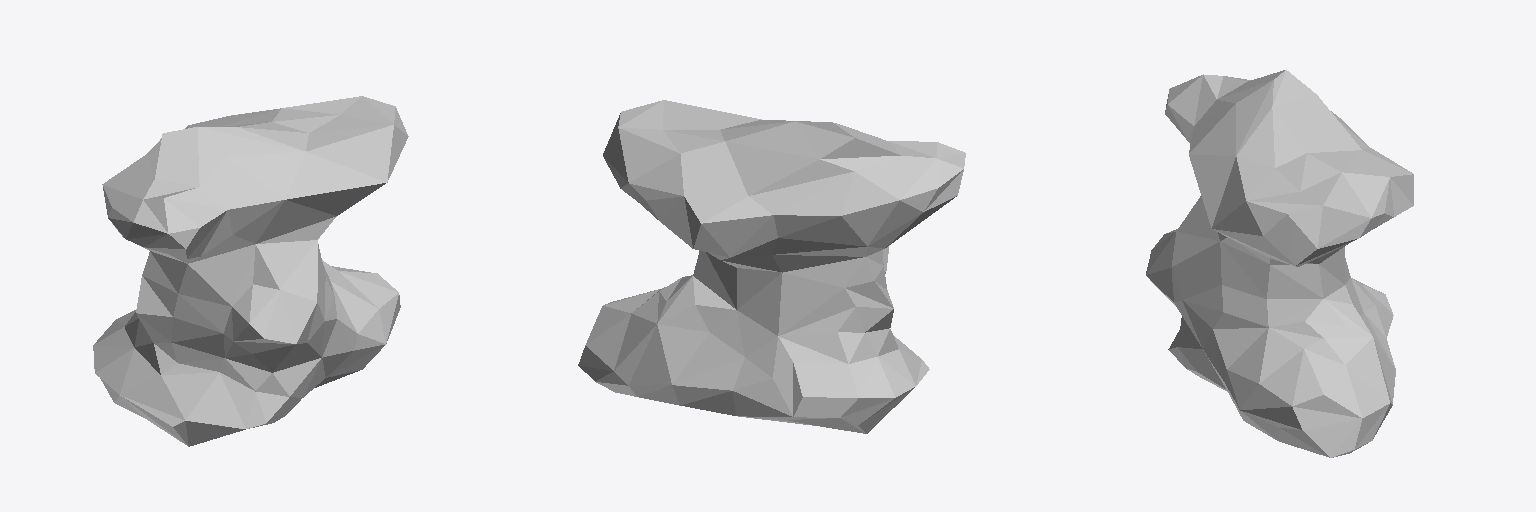
Rendered from Rock5_LowPolyMesh.obj.
The picture shows the model from 3 angles: view 1: azimuth 30°, elevation 25°; view 2: azimuth 150°, elevation 25°; view 3: azimuth 270°, elevation 25°; orthographic projection.
Parts seen in each view (by area): view 1: rock5_LowPolyMesh; view 2: rock5_LowPolyMesh; view 3: rock5_LowPolyMesh.
Boxes of the visible parts, x1=… form: rock5_LowPolyMesh: x1=93, y1=96, x2=408, y2=446; rock5_LowPolyMesh: x1=578, y1=100, x2=965, y2=433; rock5_LowPolyMesh: x1=1146, y1=70, x2=1413, y2=457.
Size of the model in its own units: 3.86 by 3.38 by 2.81.